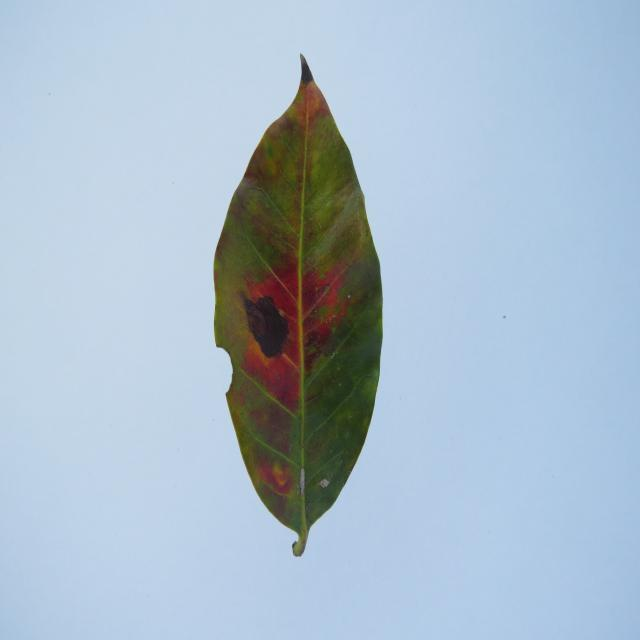DeficienciaNutricional-Fosforo: (214, 55, 382, 557)
